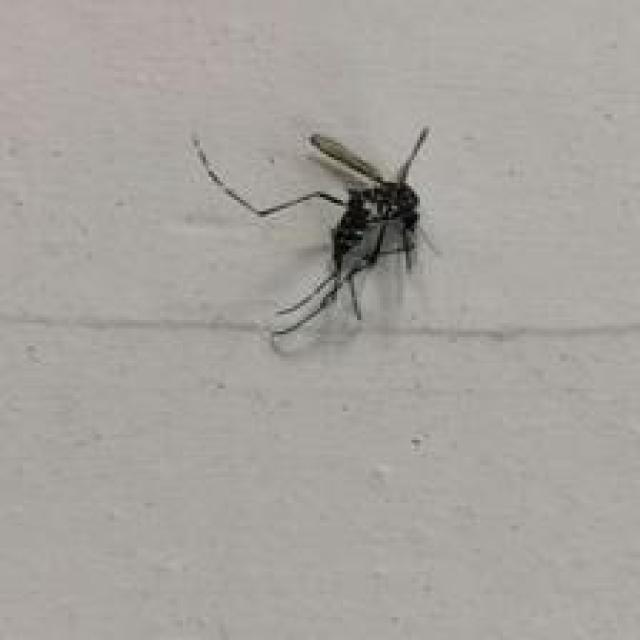Aedes albopictus: (188, 123, 443, 354)
